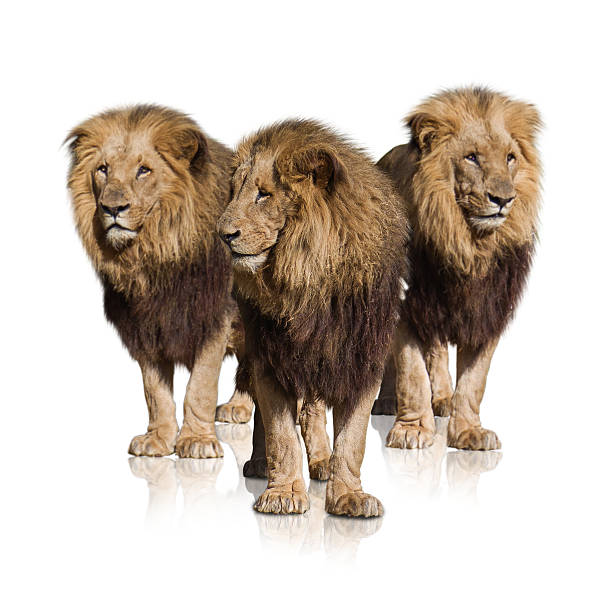lion: (219, 109, 415, 419), (31, 84, 211, 368), (407, 84, 554, 368)
